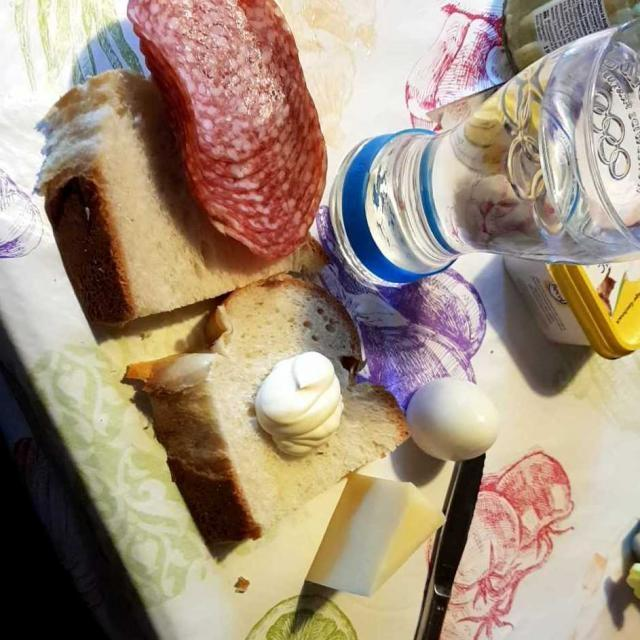bread: (38, 65, 410, 546)
cheese: (306, 462, 454, 595)
egg: (397, 370, 507, 461)
mayonnaise: (255, 346, 349, 460)
salami: (125, 0, 330, 261)
water: (333, 15, 639, 291)
